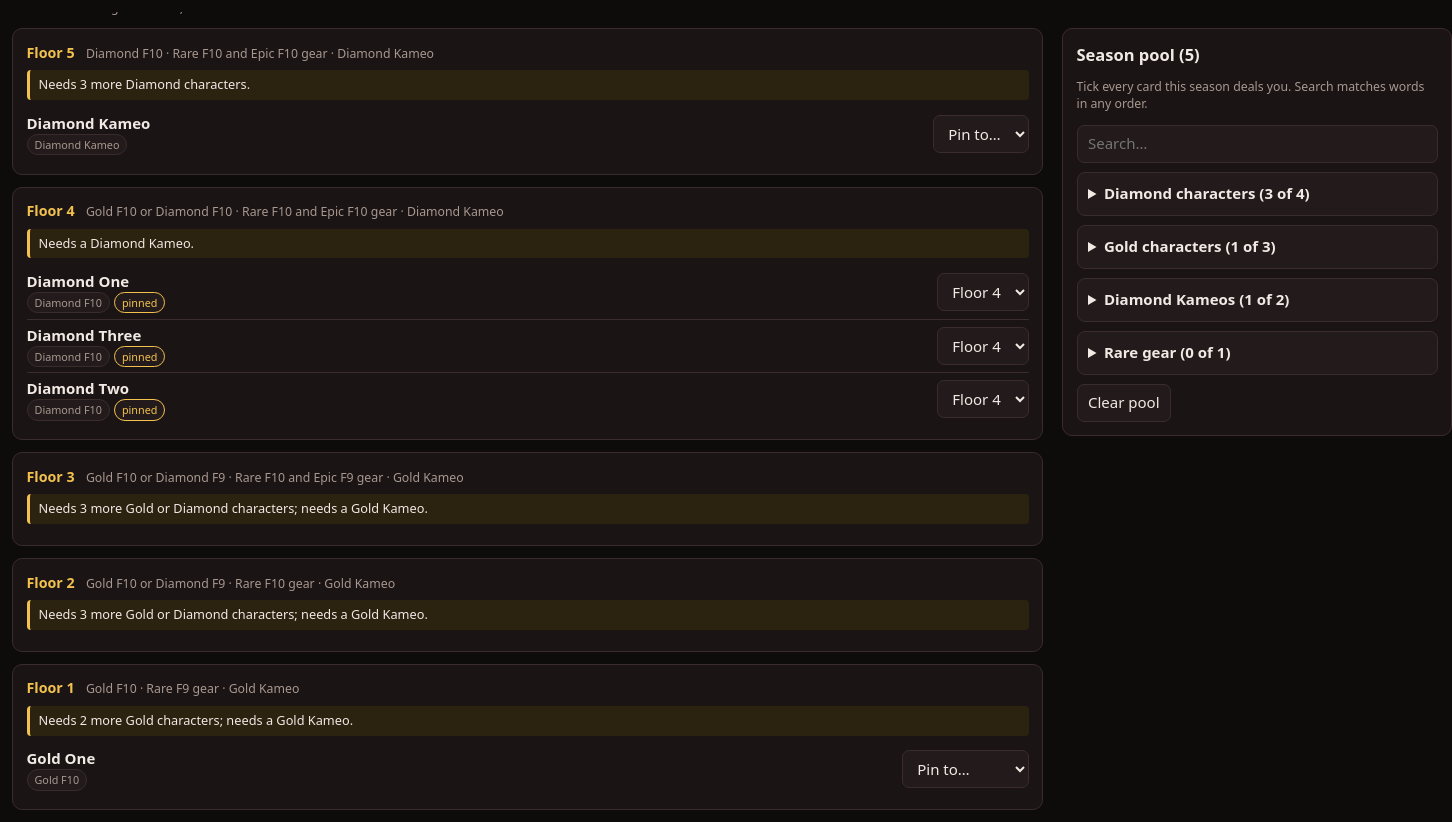
Test case: Klash Tower: the pool and the floors › pins to legal floors only, refuses a full floor, and drops the pin when the card is unticked
This screenshot has width=1452, height=822.
(page scrolled)
Select "Floor 2" in the dropdown named "Floor for Gold One": point(965, 769) x1=902 y1=750 x2=1029 y2=788
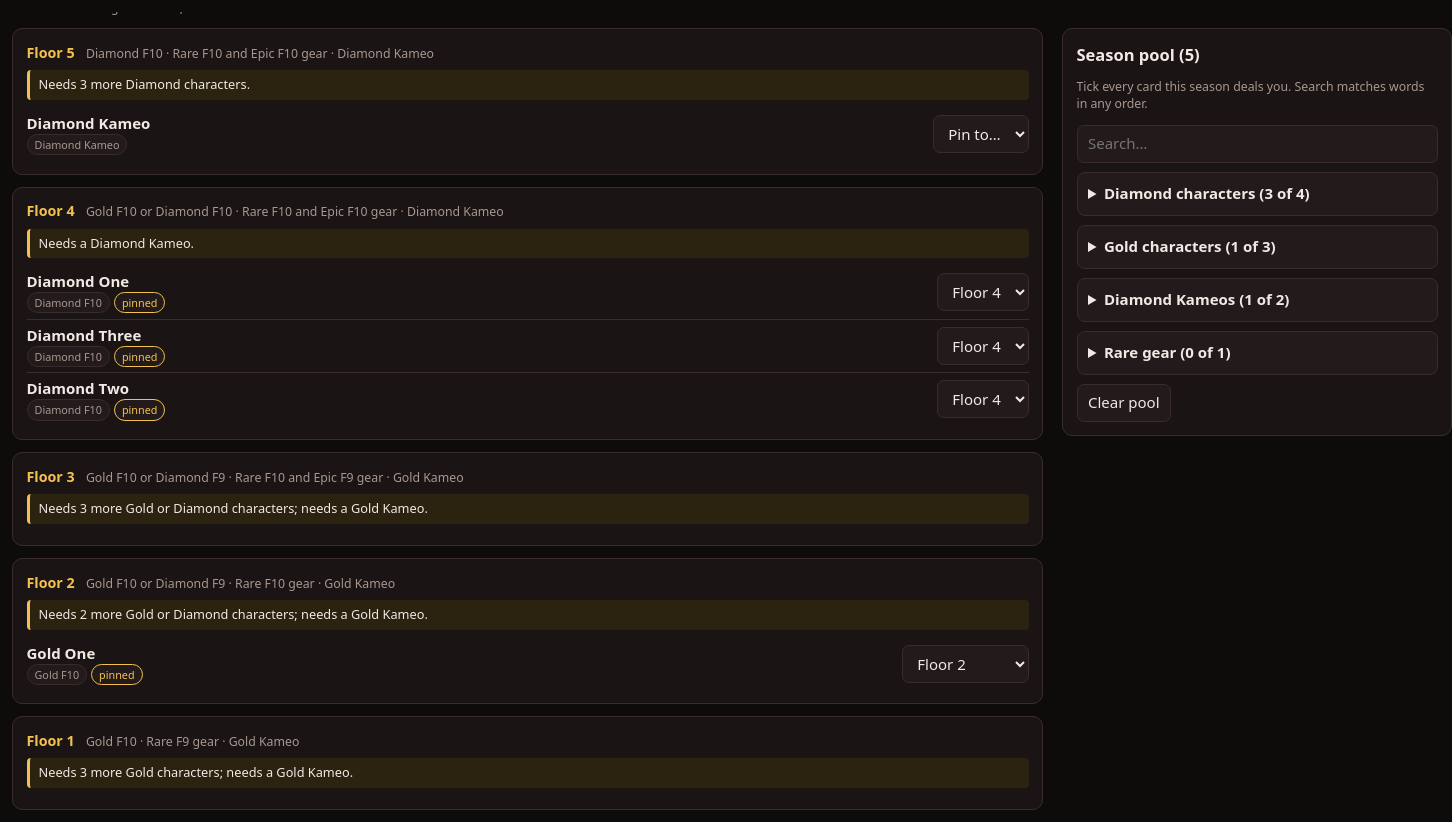
Click the heading "Gold characters (1 of 3)": point(1190, 246) x1=1104 y1=236 x2=1276 y2=256
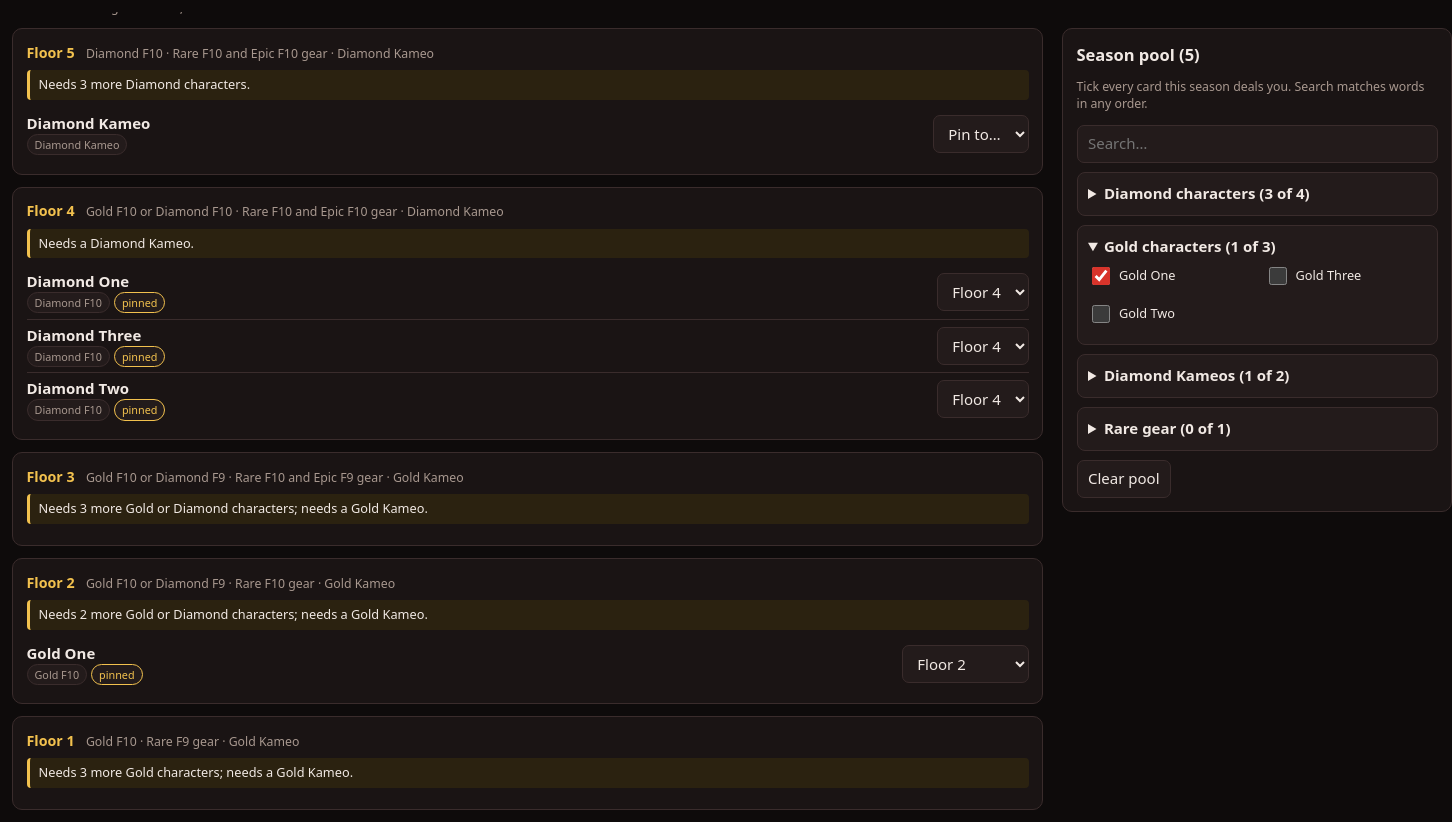
Click the checkbox labelled "Gold One": point(1101, 276) x1=1092 y1=267 x2=1110 y2=285
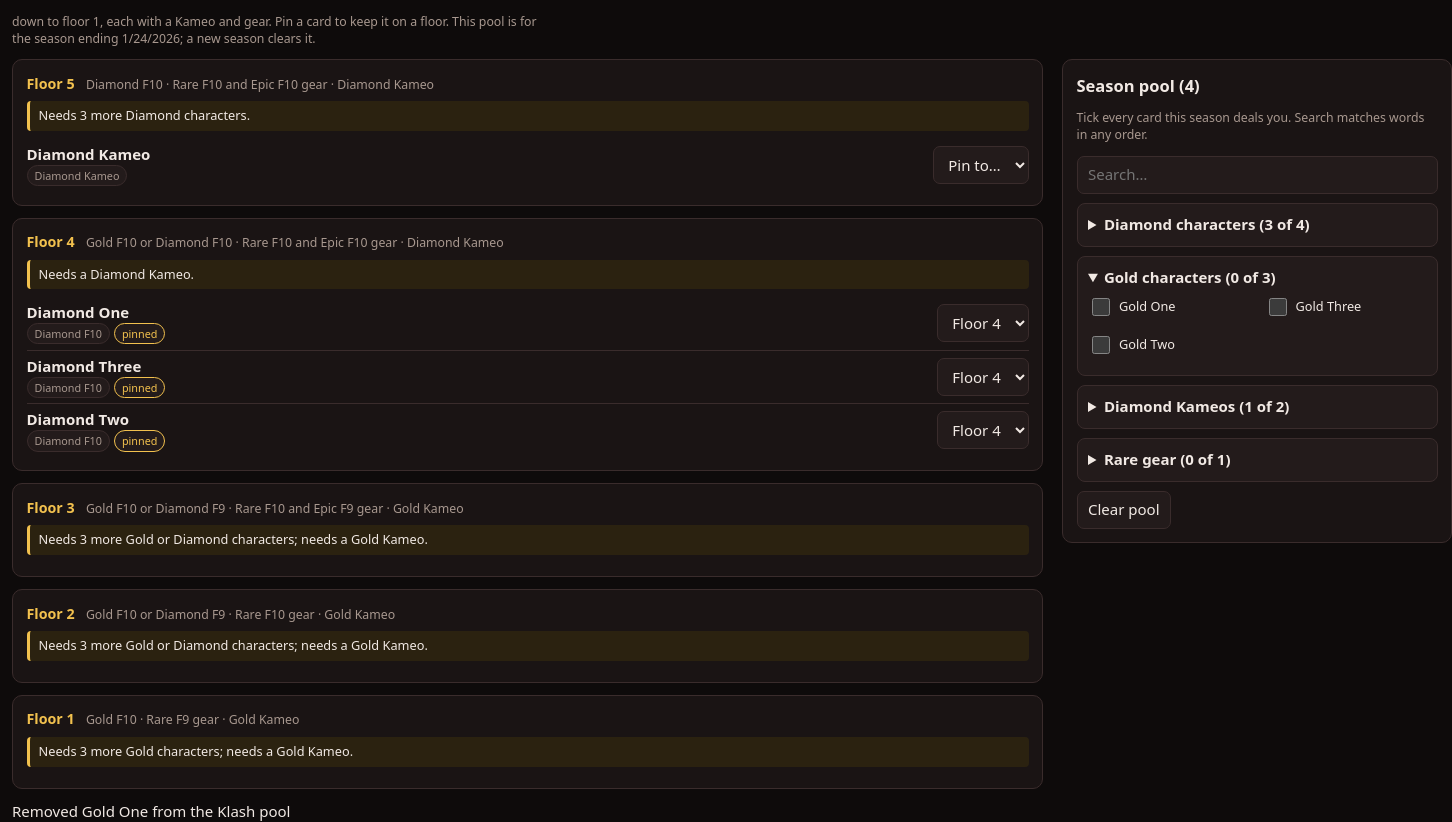
Check: the text with test id "undo" reads "Removed Gold One from the Klash pool", box x1=12 y1=801 x2=290 y2=821
